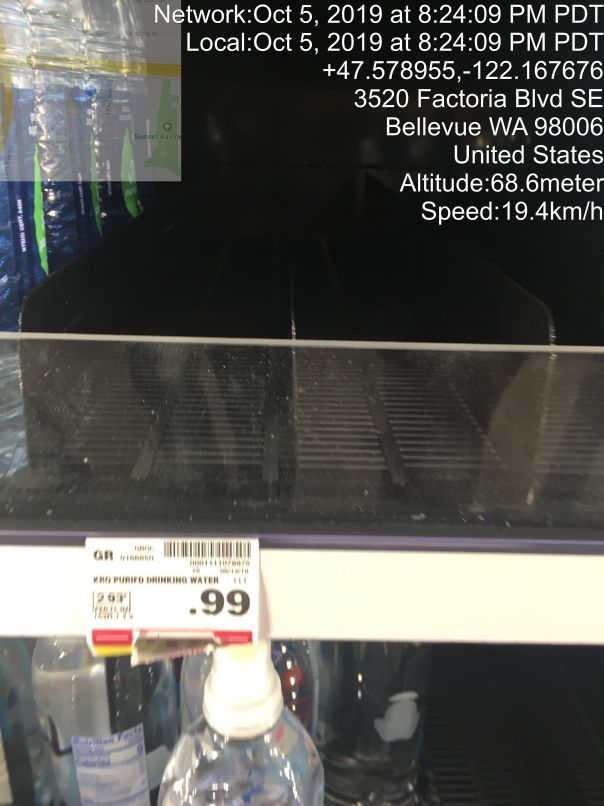Label: (87, 530, 271, 634)
Location: (349, 85, 604, 168)
Time: (147, 1, 604, 52)
Void: (134, 75, 498, 496)
